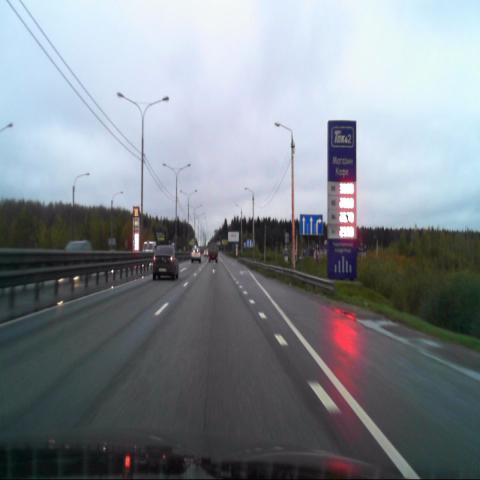5_15_1: (300, 214, 322, 234)
